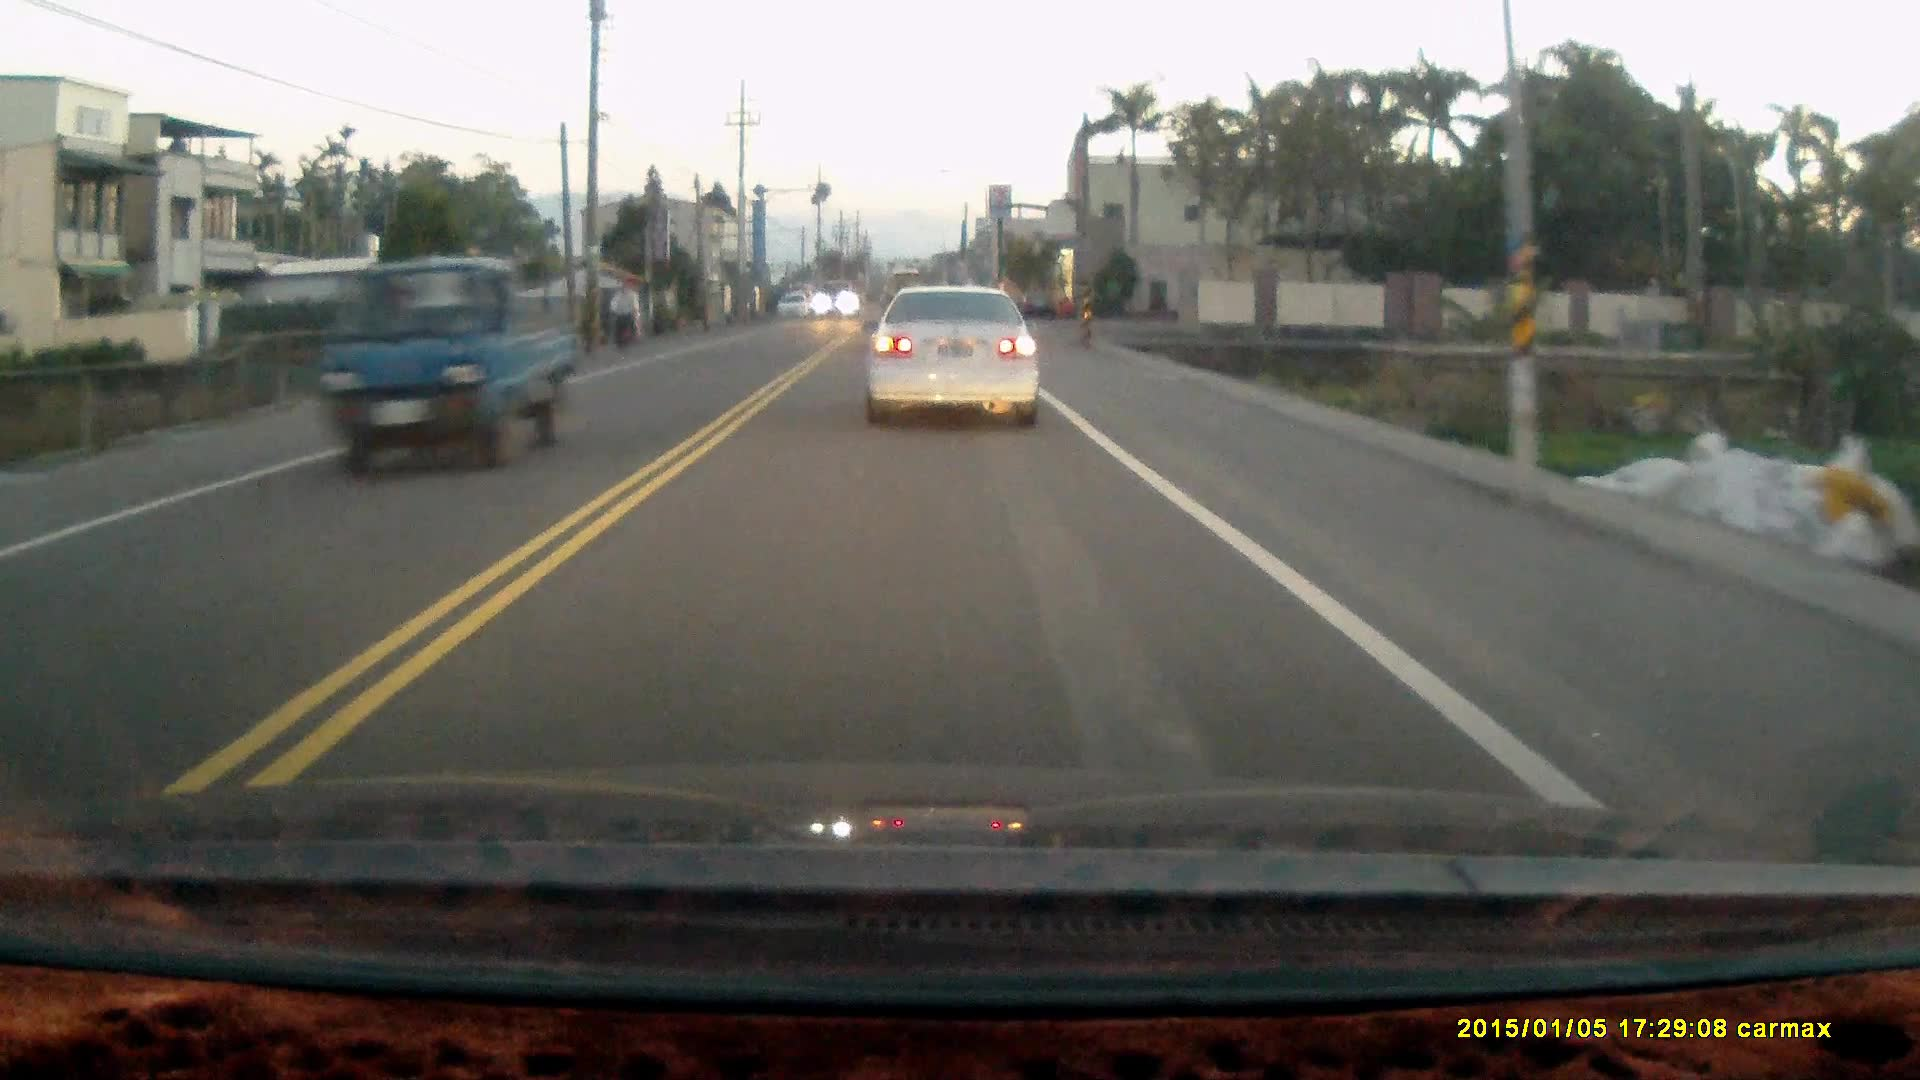rider: (607, 278, 639, 363)
vehicle: (311, 254, 577, 471), (867, 287, 1044, 427), (813, 280, 854, 321), (1020, 285, 1057, 316), (777, 295, 811, 324)
